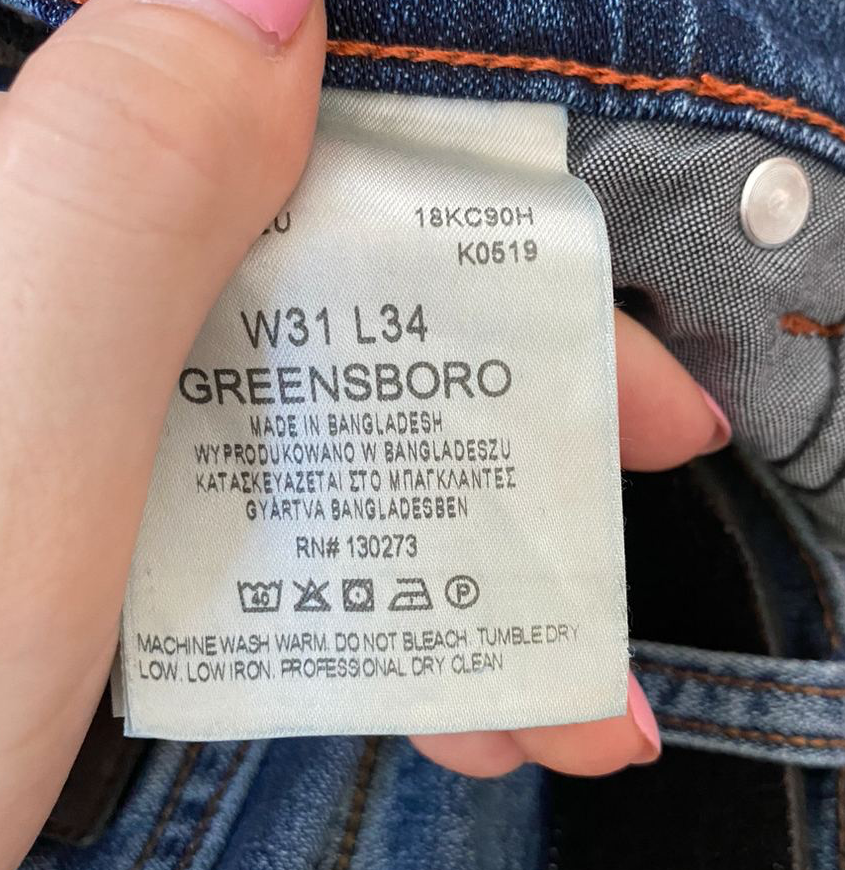do_not_bleach: (290, 572, 334, 620)
dry_clean_tetrachloroethylene_pce_only: (441, 568, 484, 612)
ironing_at_low_temp: (384, 572, 438, 615)
tumble_drying_low_temps: (339, 573, 377, 614)
wash_at_or_below_40: (233, 575, 287, 618)
